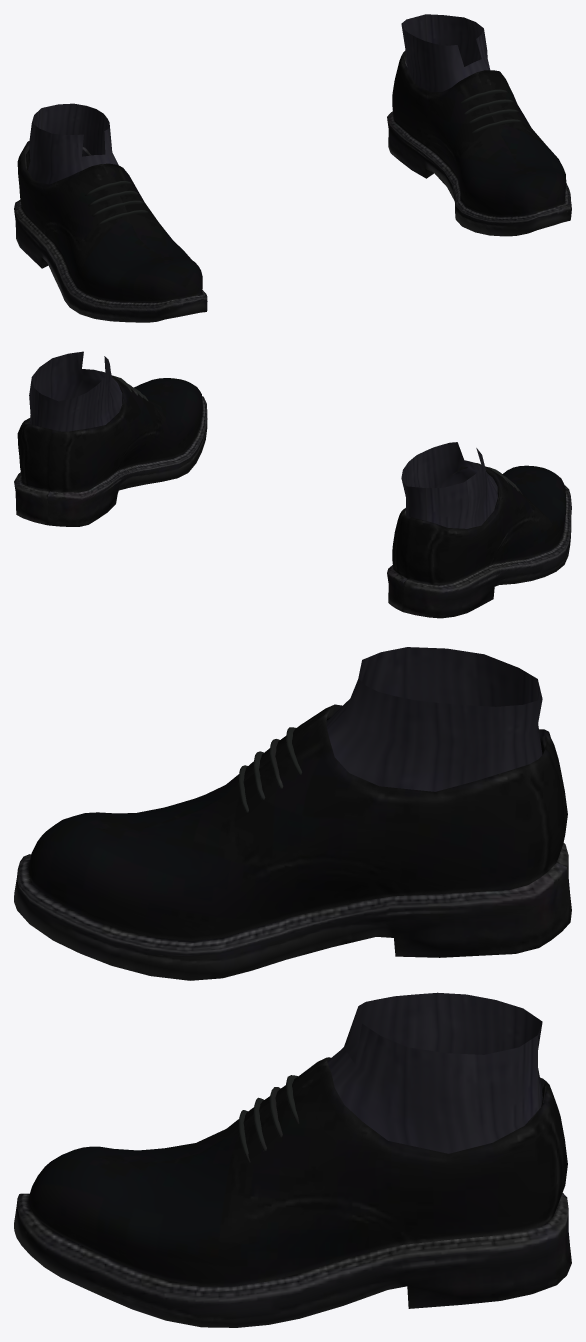
The model's file is male_boots.glb.
The picture shows the model from 3 angles, top to bottom: view 1: azimuth 30°, elevation 25°; view 2: azimuth 150°, elevation 25°; view 3: azimuth 270°, elevation 25°; orthographic projection. The views are drawn at different scales.
Parts seen in each view (by area): view 1: shoes; view 2: shoes; view 3: shoes.
Boxes of the visible parts, x1=… form: shoes: x1=14, y1=14, x2=571, y2=322; shoes: x1=14, y1=351, x2=571, y2=618; shoes: x1=14, y1=647, x2=571, y2=1327.
Bounding box in the file's own units: 0.5171 × 0.142 × 0.2701.
Materials: 1 (1 with a texture image).
